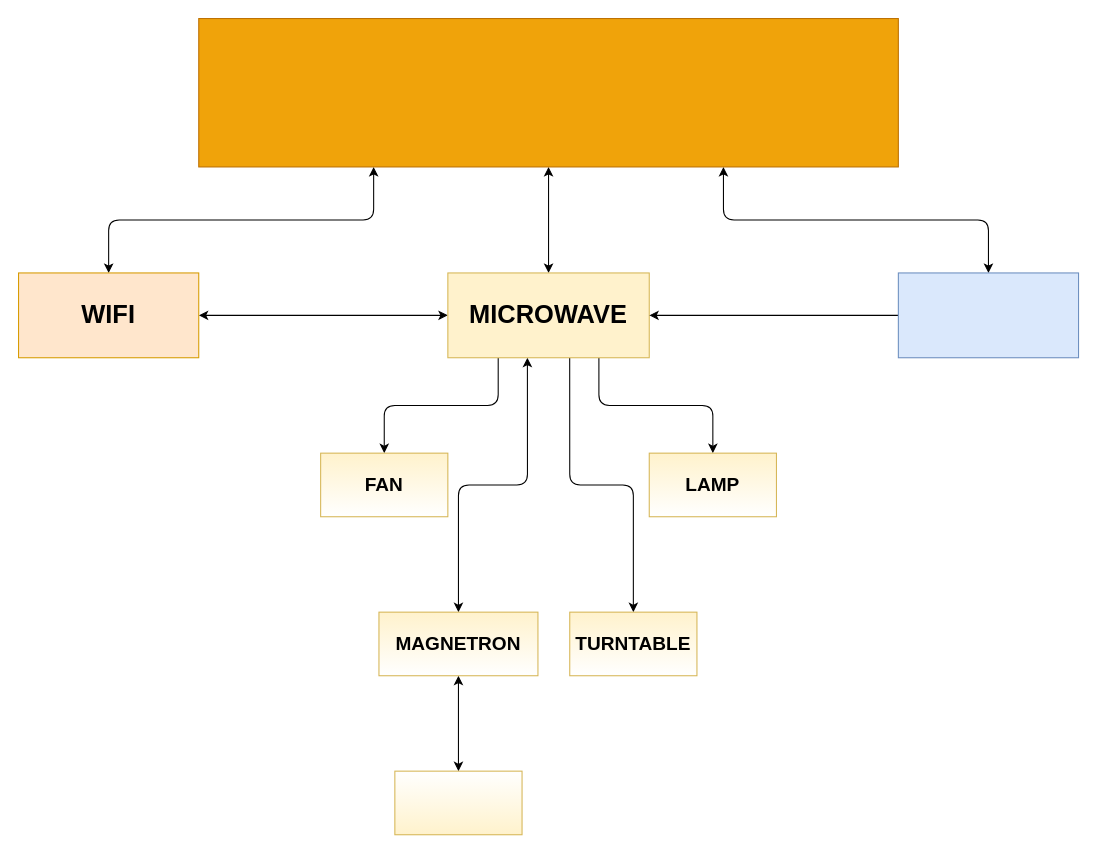
Some shapes in this 1097 by 853 pixel diagram are drawn without their labels. Each missing label, with the box of its shape:
SYSTEM: (198, 17, 898, 167)
User Button (GPIO_IN): (897, 272, 1079, 358)
User LED (GPIO_OUT): (394, 770, 522, 835)
